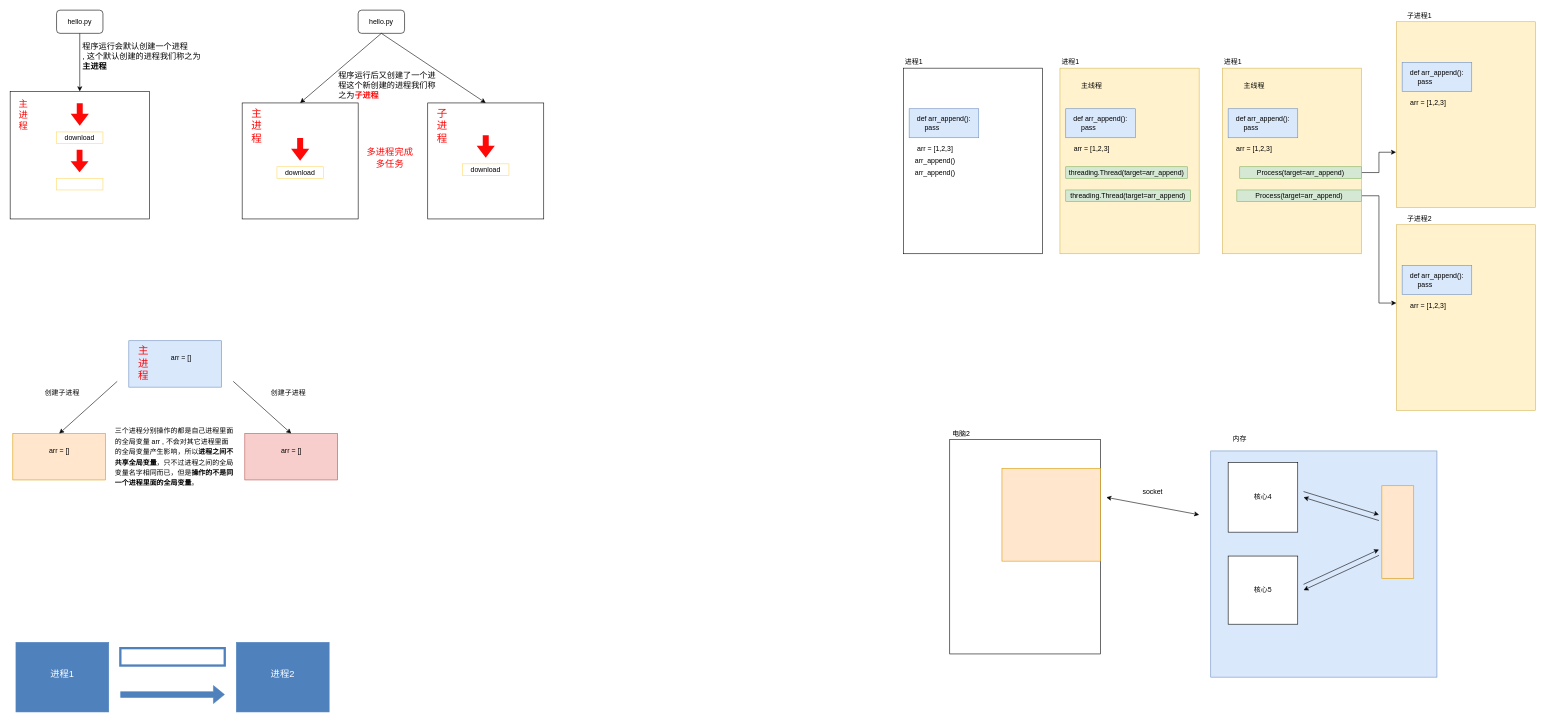
Image size: 1546x722. Some labels were removed from this diagram. The centre of each missing label's shape, as x and y in pixels:
queue: point (1397, 532)
redis (queue): point (1051, 514)
upload: point (79, 184)
使用 Queue 进行数据传递: point (172, 656)
